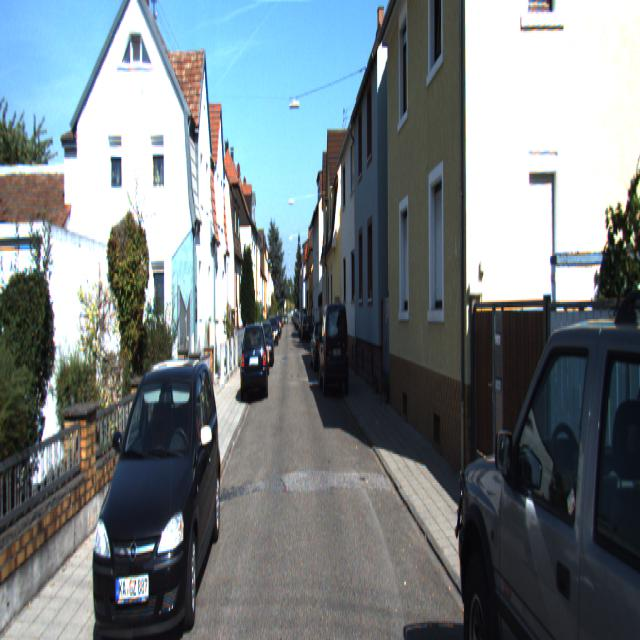Car: (453, 292, 640, 638), (86, 343, 226, 638), (318, 299, 350, 396), (240, 318, 268, 402)
